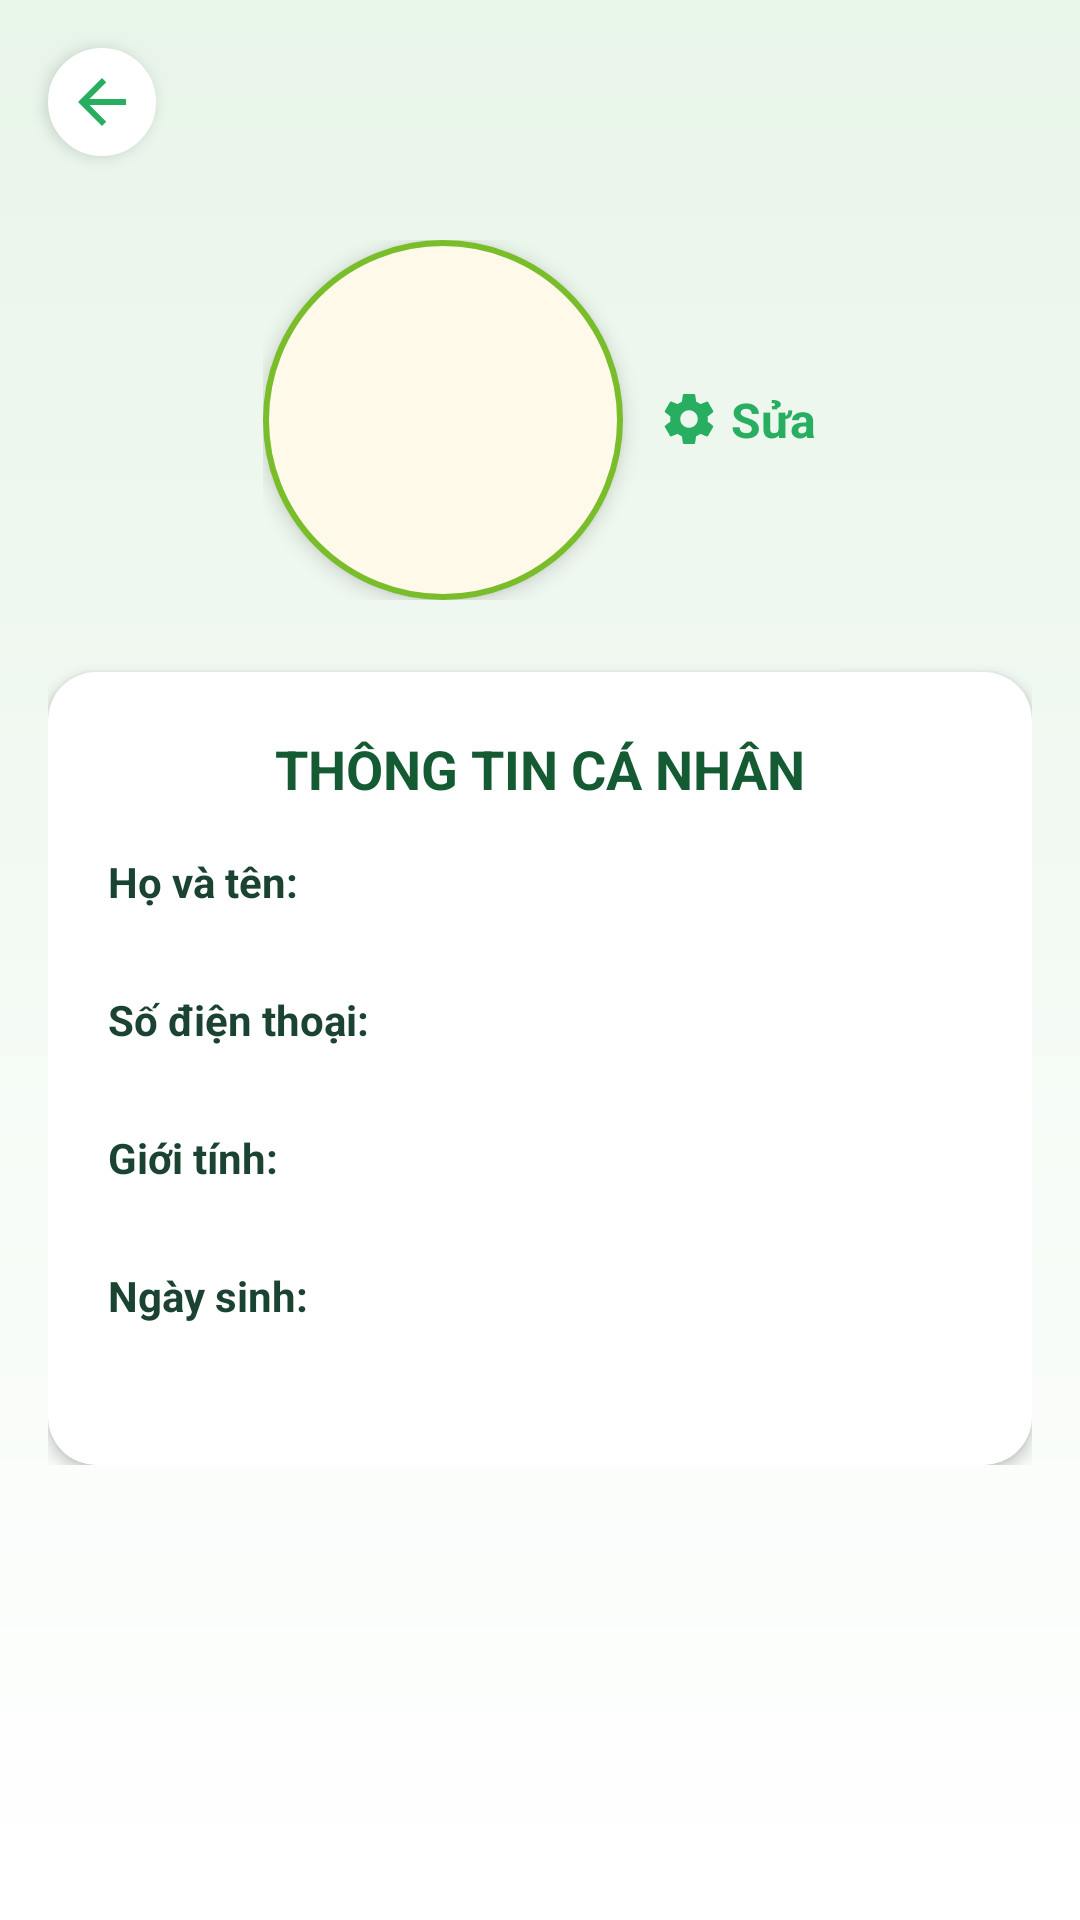

Where to tap for icons on this 1080 x 1920 app screen, as (x,y):
Quay lại: (102,102)
